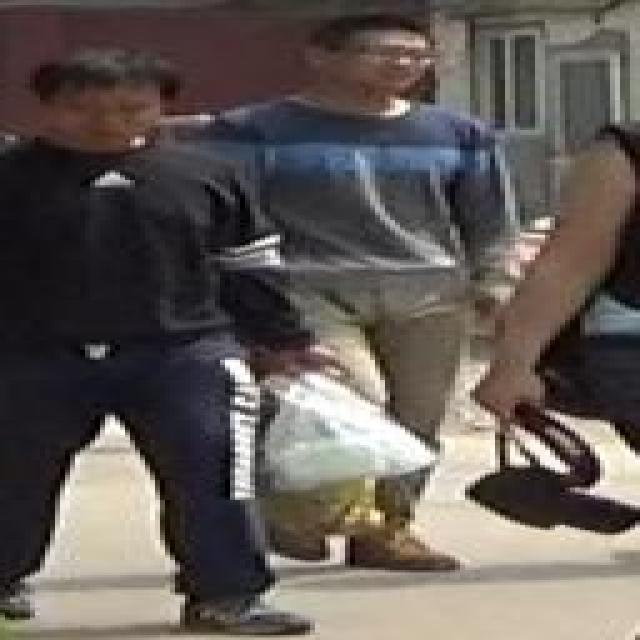adult: (180, 12, 506, 572), (0, 54, 303, 632)
